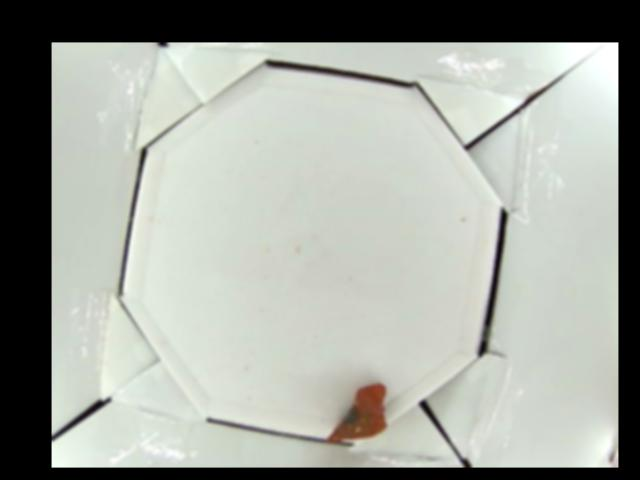Brisk: (327, 379, 389, 441)
